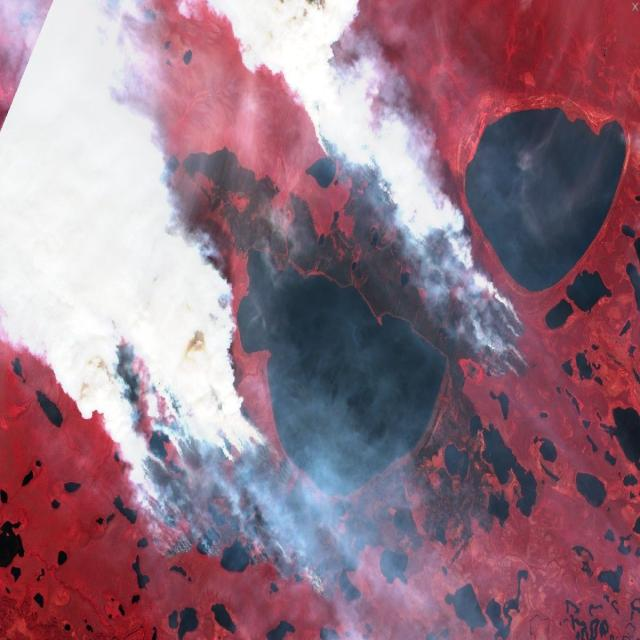fire: (94, 0, 534, 611)
